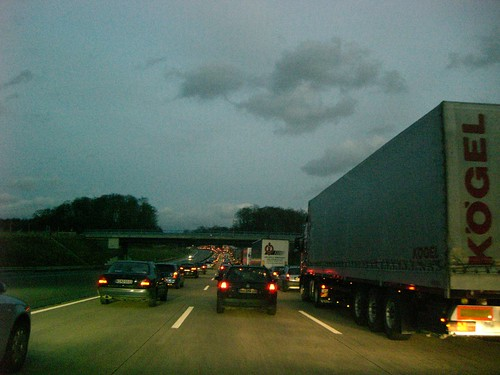bridge: (97, 215, 306, 259)
car: (85, 258, 170, 312), (211, 261, 285, 318), (157, 260, 188, 287), (176, 256, 199, 282)
road: (19, 274, 495, 375)
sky: (5, 1, 500, 212)
truck: (302, 95, 491, 341), (242, 237, 291, 277)
